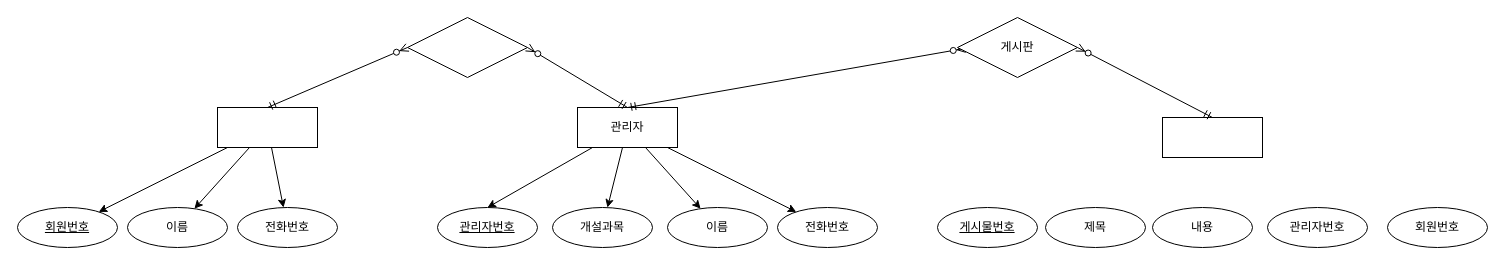
The diagram is 1505 pixels wide and 265 high, and some of its shapes have lost their labels. Here are the shapes that lost their labels. From the top down, the box of each, then its label:
(406, 16, 528, 78): 수강신청
(216, 106, 318, 148): 개인회원
(1162, 116, 1262, 158): 게시글
